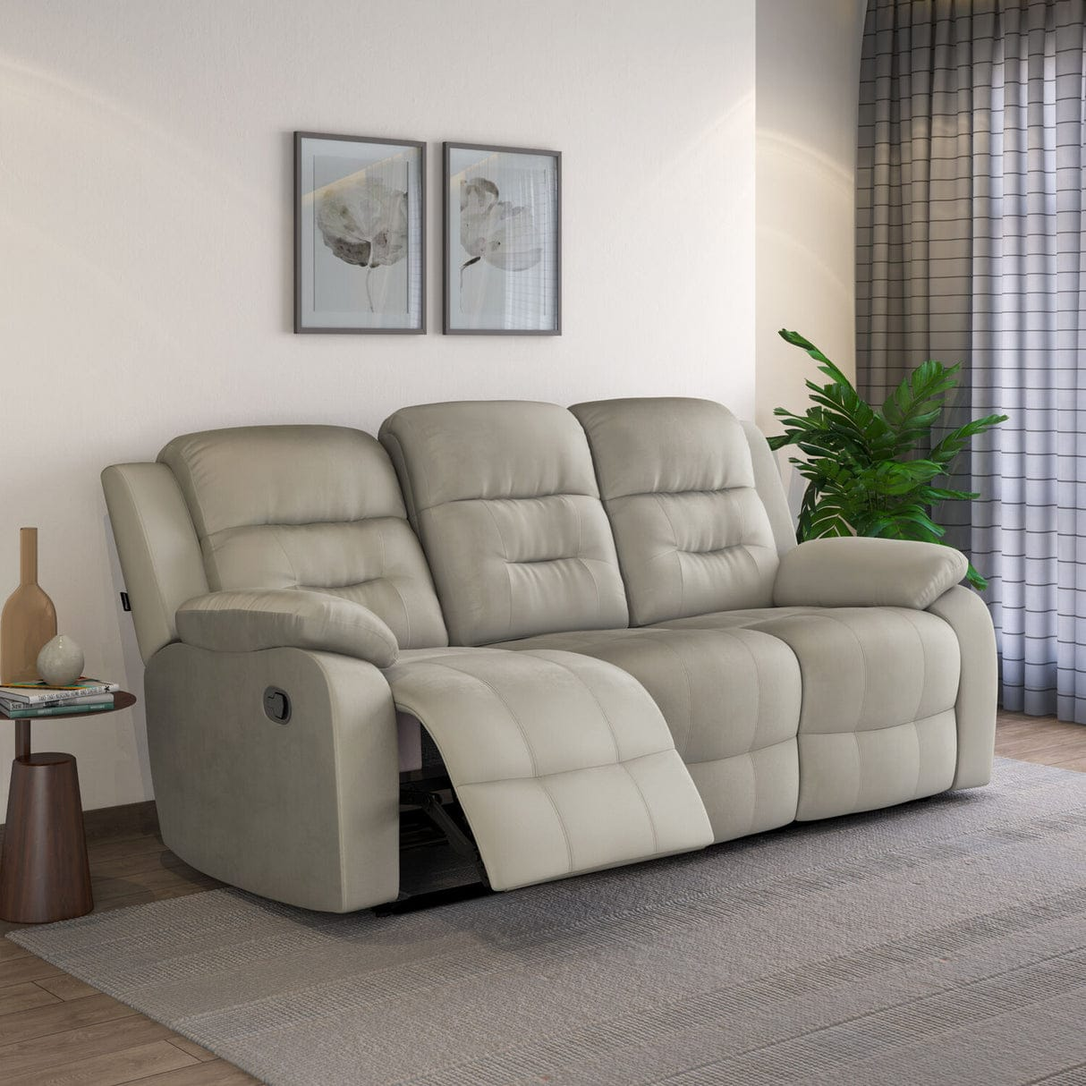3seatersofa: (103, 398, 996, 912)
backrest: (159, 397, 776, 647)
leftarmrest: (743, 423, 963, 608)
leg: (146, 643, 399, 912), (929, 588, 997, 788)
rightarmrest: (103, 462, 397, 666)
seat: (386, 609, 958, 888)
